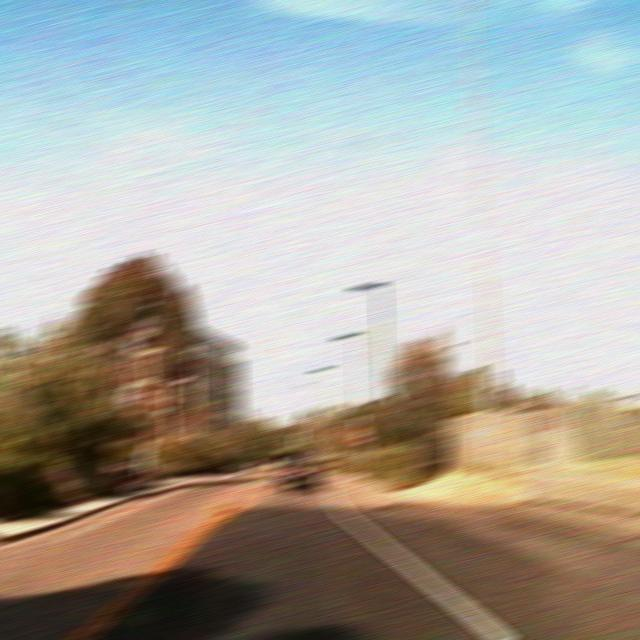stop: (350, 429, 368, 442)
